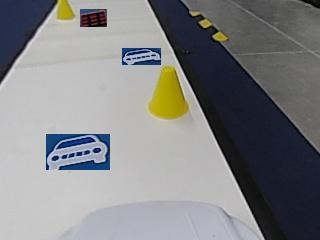cone: (148, 68, 188, 119), (56, 1, 75, 19)
